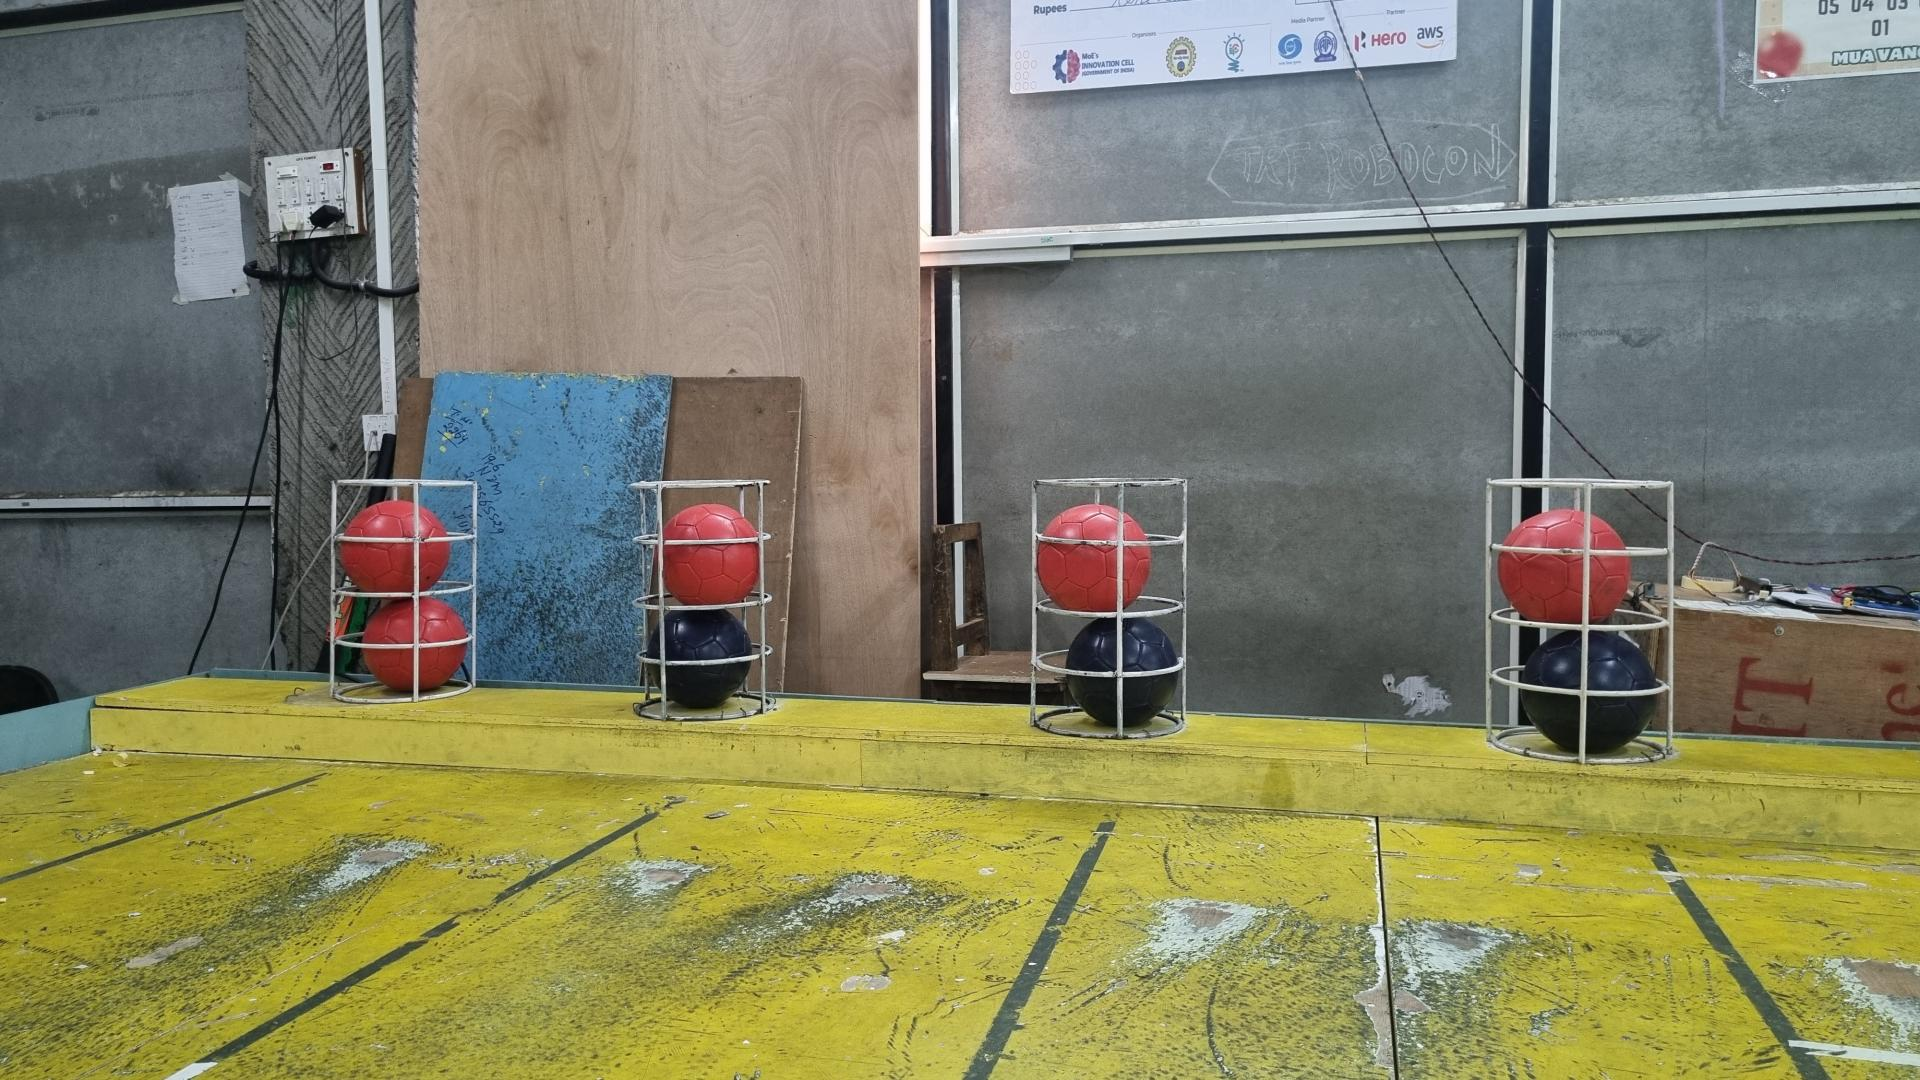dhoka: (1519, 633, 1658, 757), (1065, 618, 1182, 735), (645, 611, 754, 712)
laale: (1497, 509, 1631, 625), (1035, 502, 1151, 615), (342, 498, 450, 592), (364, 600, 468, 694), (663, 506, 757, 607)
